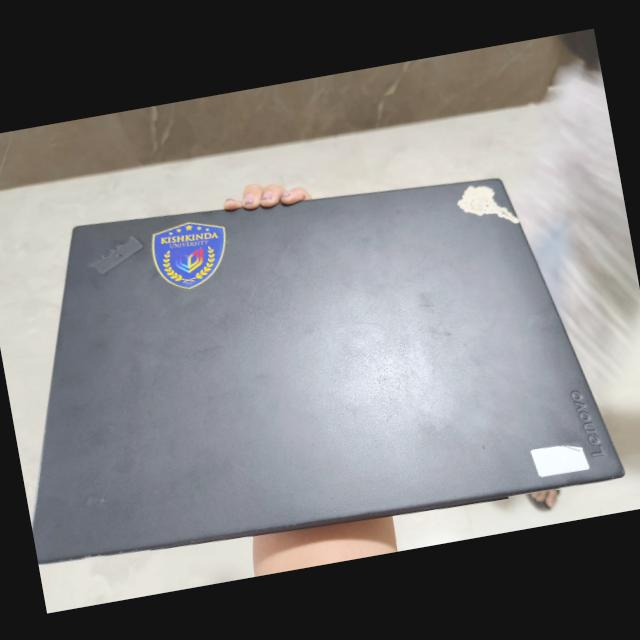laptop: (0, 125, 637, 590)
